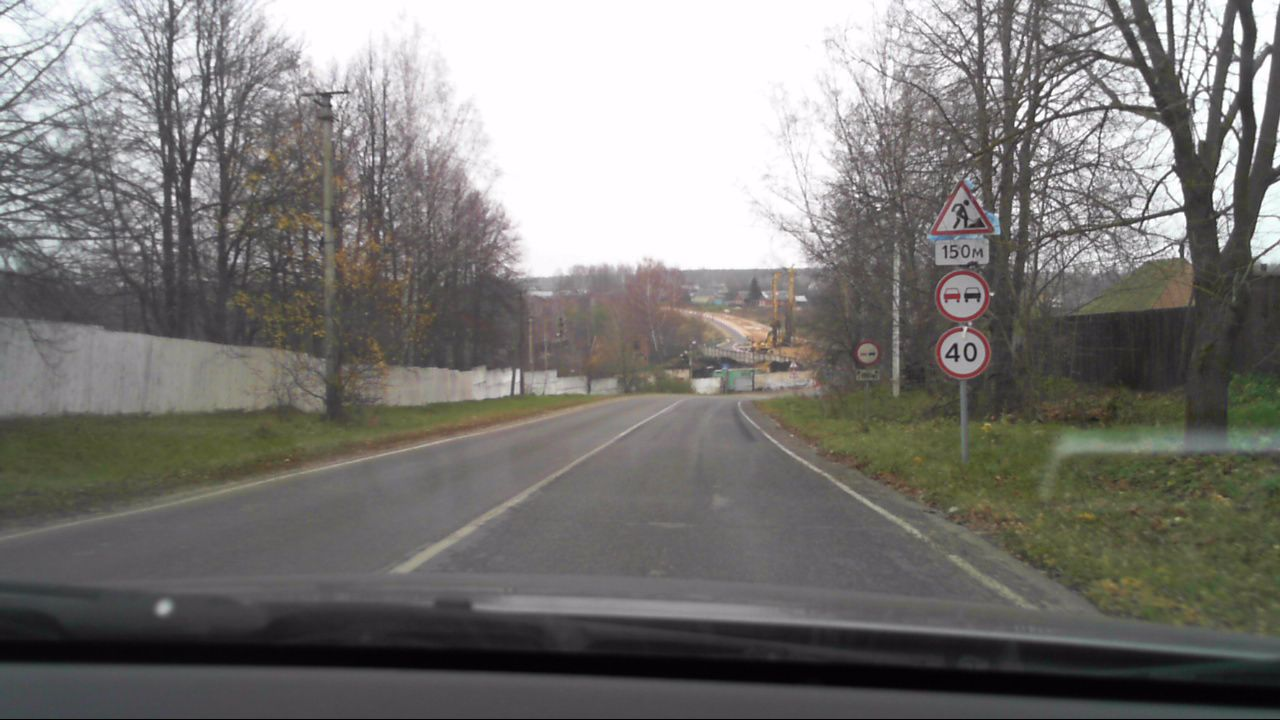speed_warning_40: (938, 324, 991, 382)
